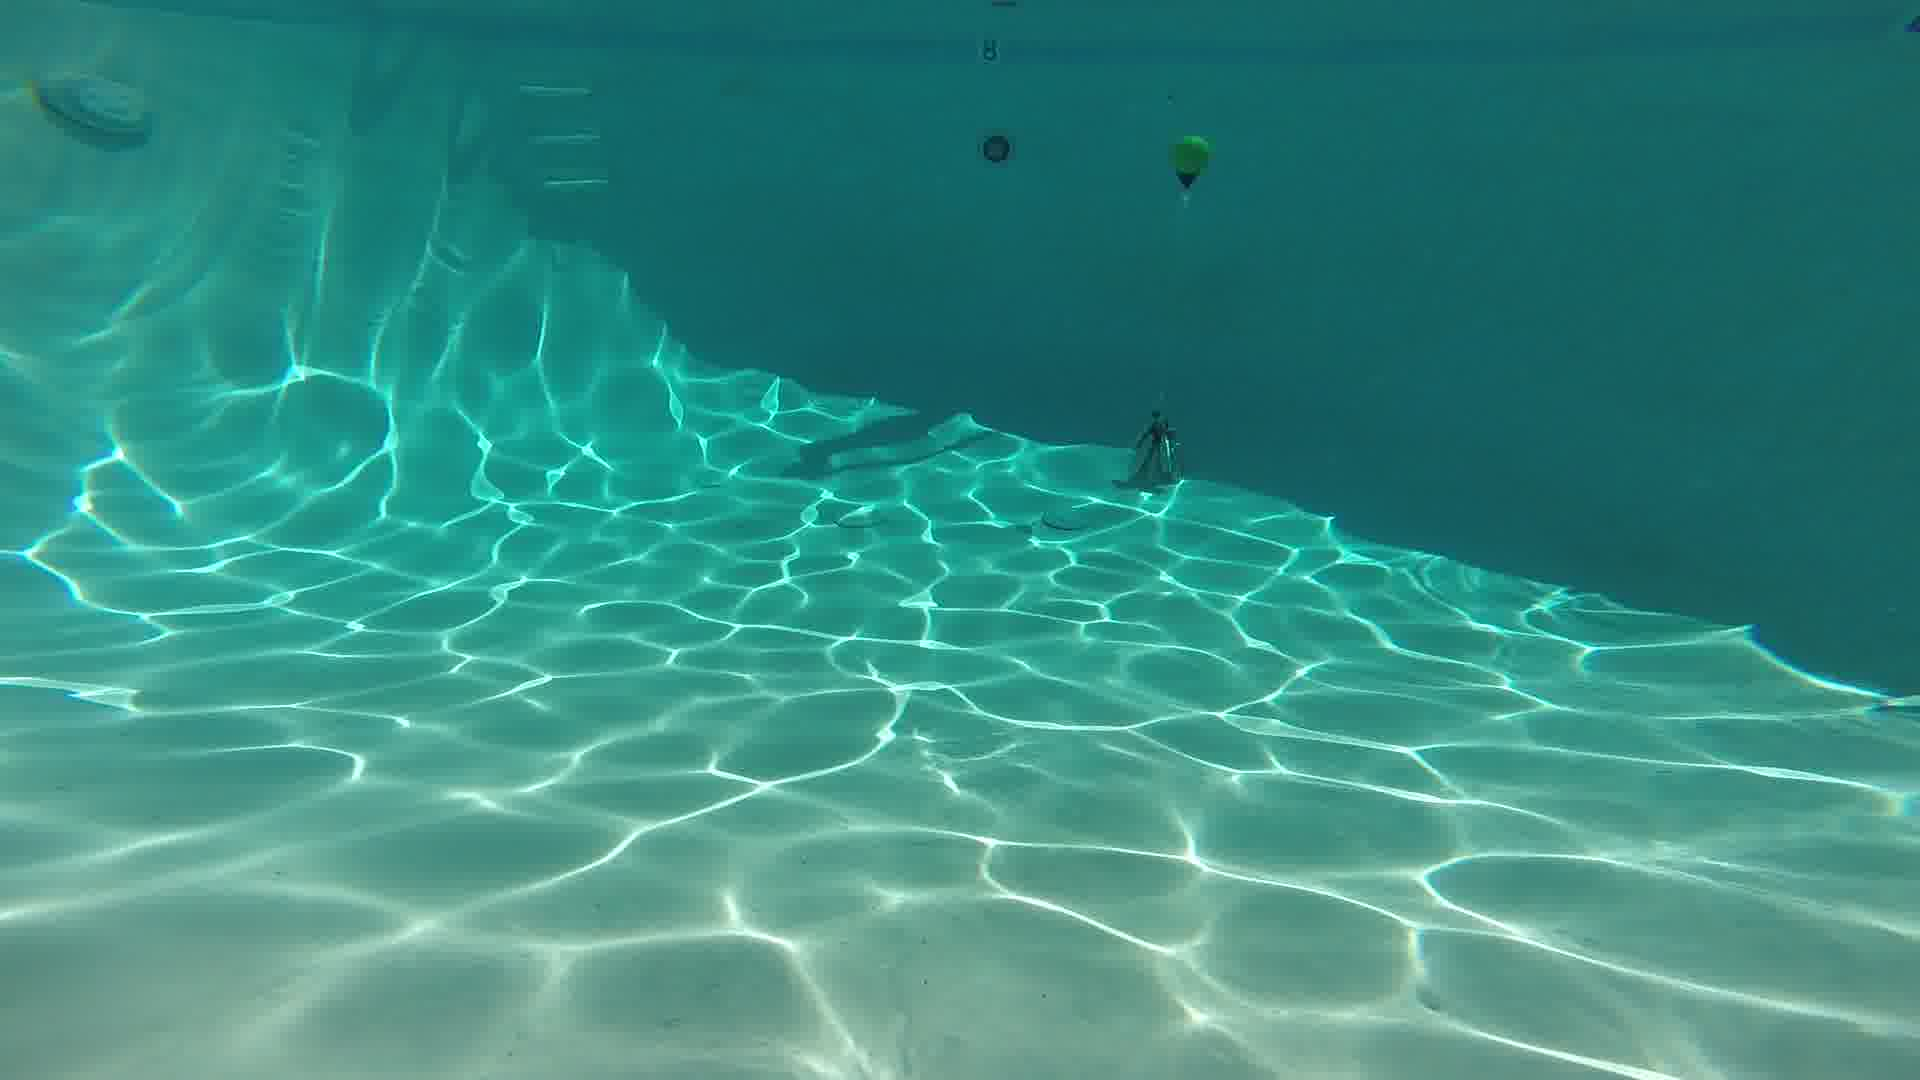yellow_buoy: (1174, 133, 1211, 191)
